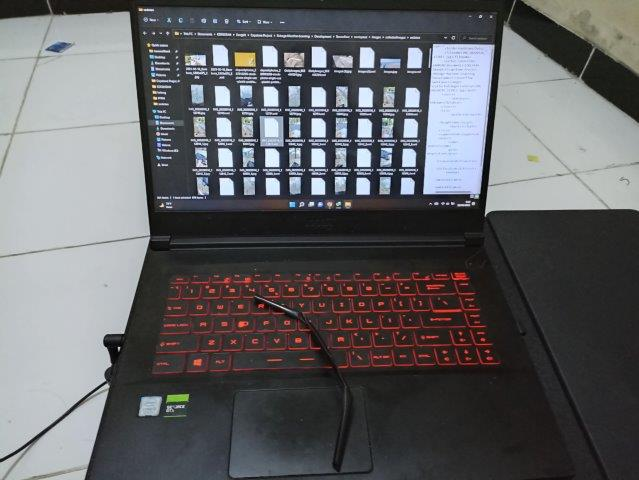sedotan: (254, 296, 350, 470)
